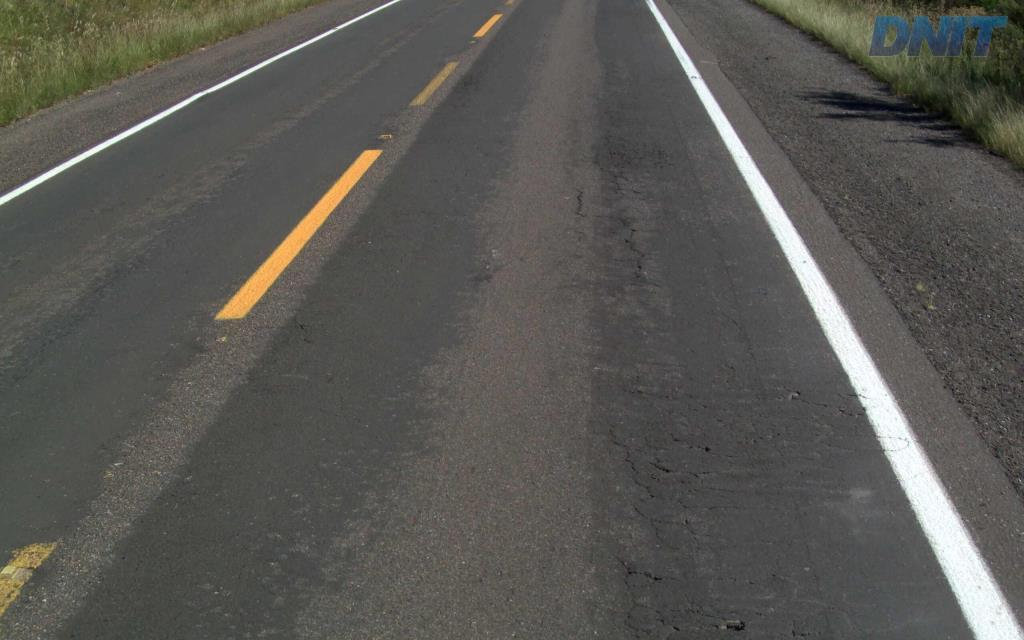crack: (614, 555, 680, 639), (608, 423, 665, 504), (654, 593, 730, 639), (644, 436, 677, 486), (605, 136, 646, 168)
